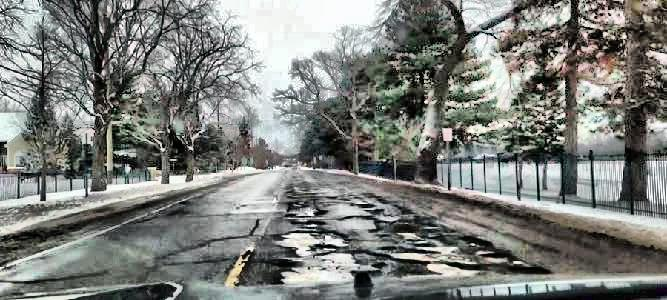pothole: (379, 255, 486, 281), (279, 254, 349, 285), (369, 215, 446, 241), (275, 229, 352, 252), (284, 197, 331, 216), (508, 262, 549, 277), (460, 233, 492, 249), (378, 244, 429, 252), (352, 201, 386, 212), (351, 271, 373, 285), (290, 218, 323, 227), (312, 242, 337, 252)
